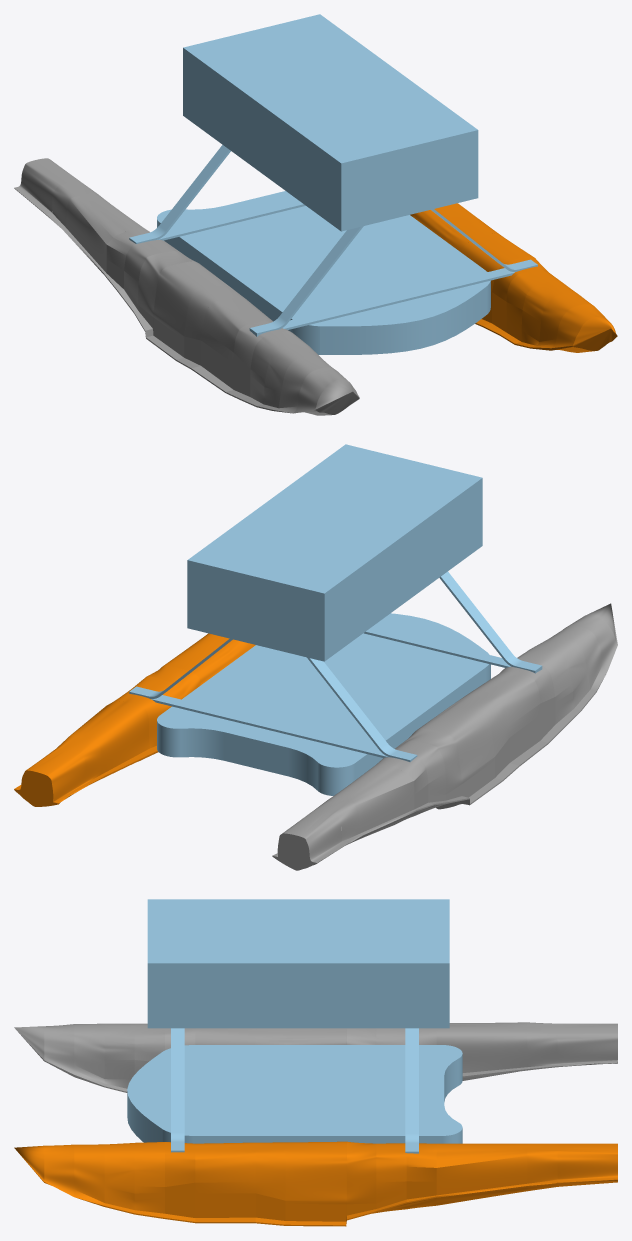
File: Assembly 1.dae
The picture shows the model from 3 angles, top to bottom: view 1: azimuth 30°, elevation 25°; view 2: azimuth 150°, elevation 25°; view 3: azimuth 270°, elevation 25°; orthographic projection. The views are drawn at different scales.
Parts seen in each view (by area): view 1: box, kickboard, Part 1, Part 1-Mirrored, link, link2; view 2: box, kickboard, Part 1, Part 1-Mirrored, link2, link; view 3: box, Part 1-Mirrored, kickboard, Part 1, link2, link.
Part boxes in pixels (<box>): box: <box>183,14,478,231</box>; kickboard: <box>157,191,490,354</box>; Part 1: <box>14,158,359,415</box>; Part 1-Mirrored: <box>410,203,617,352</box>; link: <box>249,209,537,336</box>; link2: <box>129,145,305,244</box>; box: <box>187,444,482,661</box>; kickboard: <box>157,613,490,795</box>; Part 1: <box>272,603,617,870</box>; Part 1-Mirrored: <box>14,633,255,806</box>; link2: <box>129,638,417,761</box>; link: <box>364,571,542,673</box>; box: <box>147,899,449,1028</box>; Part 1-Mirrored: <box>14,1141,617,1226</box>; kickboard: <box>127,1045,462,1143</box>; Part 1: <box>14,1022,617,1092</box>; link2: <box>405,1028,418,1153</box>; link: <box>171,1028,184,1152</box>.
Size of the model in its own units: 0.4786 by 0.8 by 0.3357.
